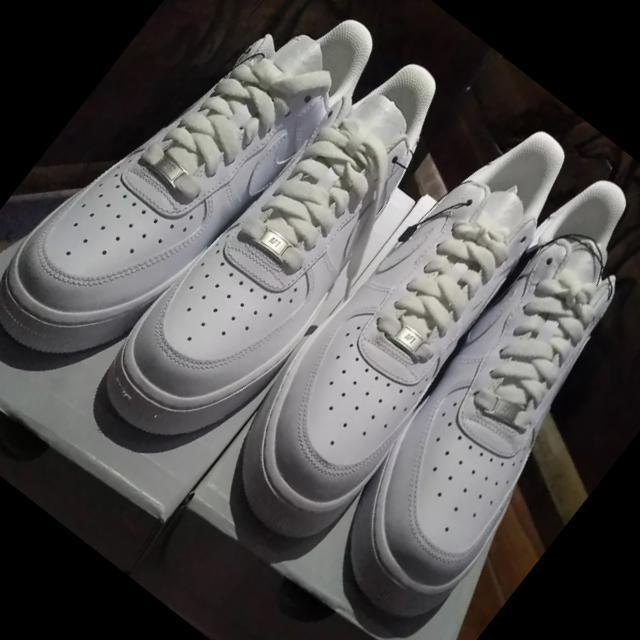nike original air force: (78, 18, 488, 481), (202, 93, 608, 560), (288, 164, 640, 640), (0, 0, 390, 411)
